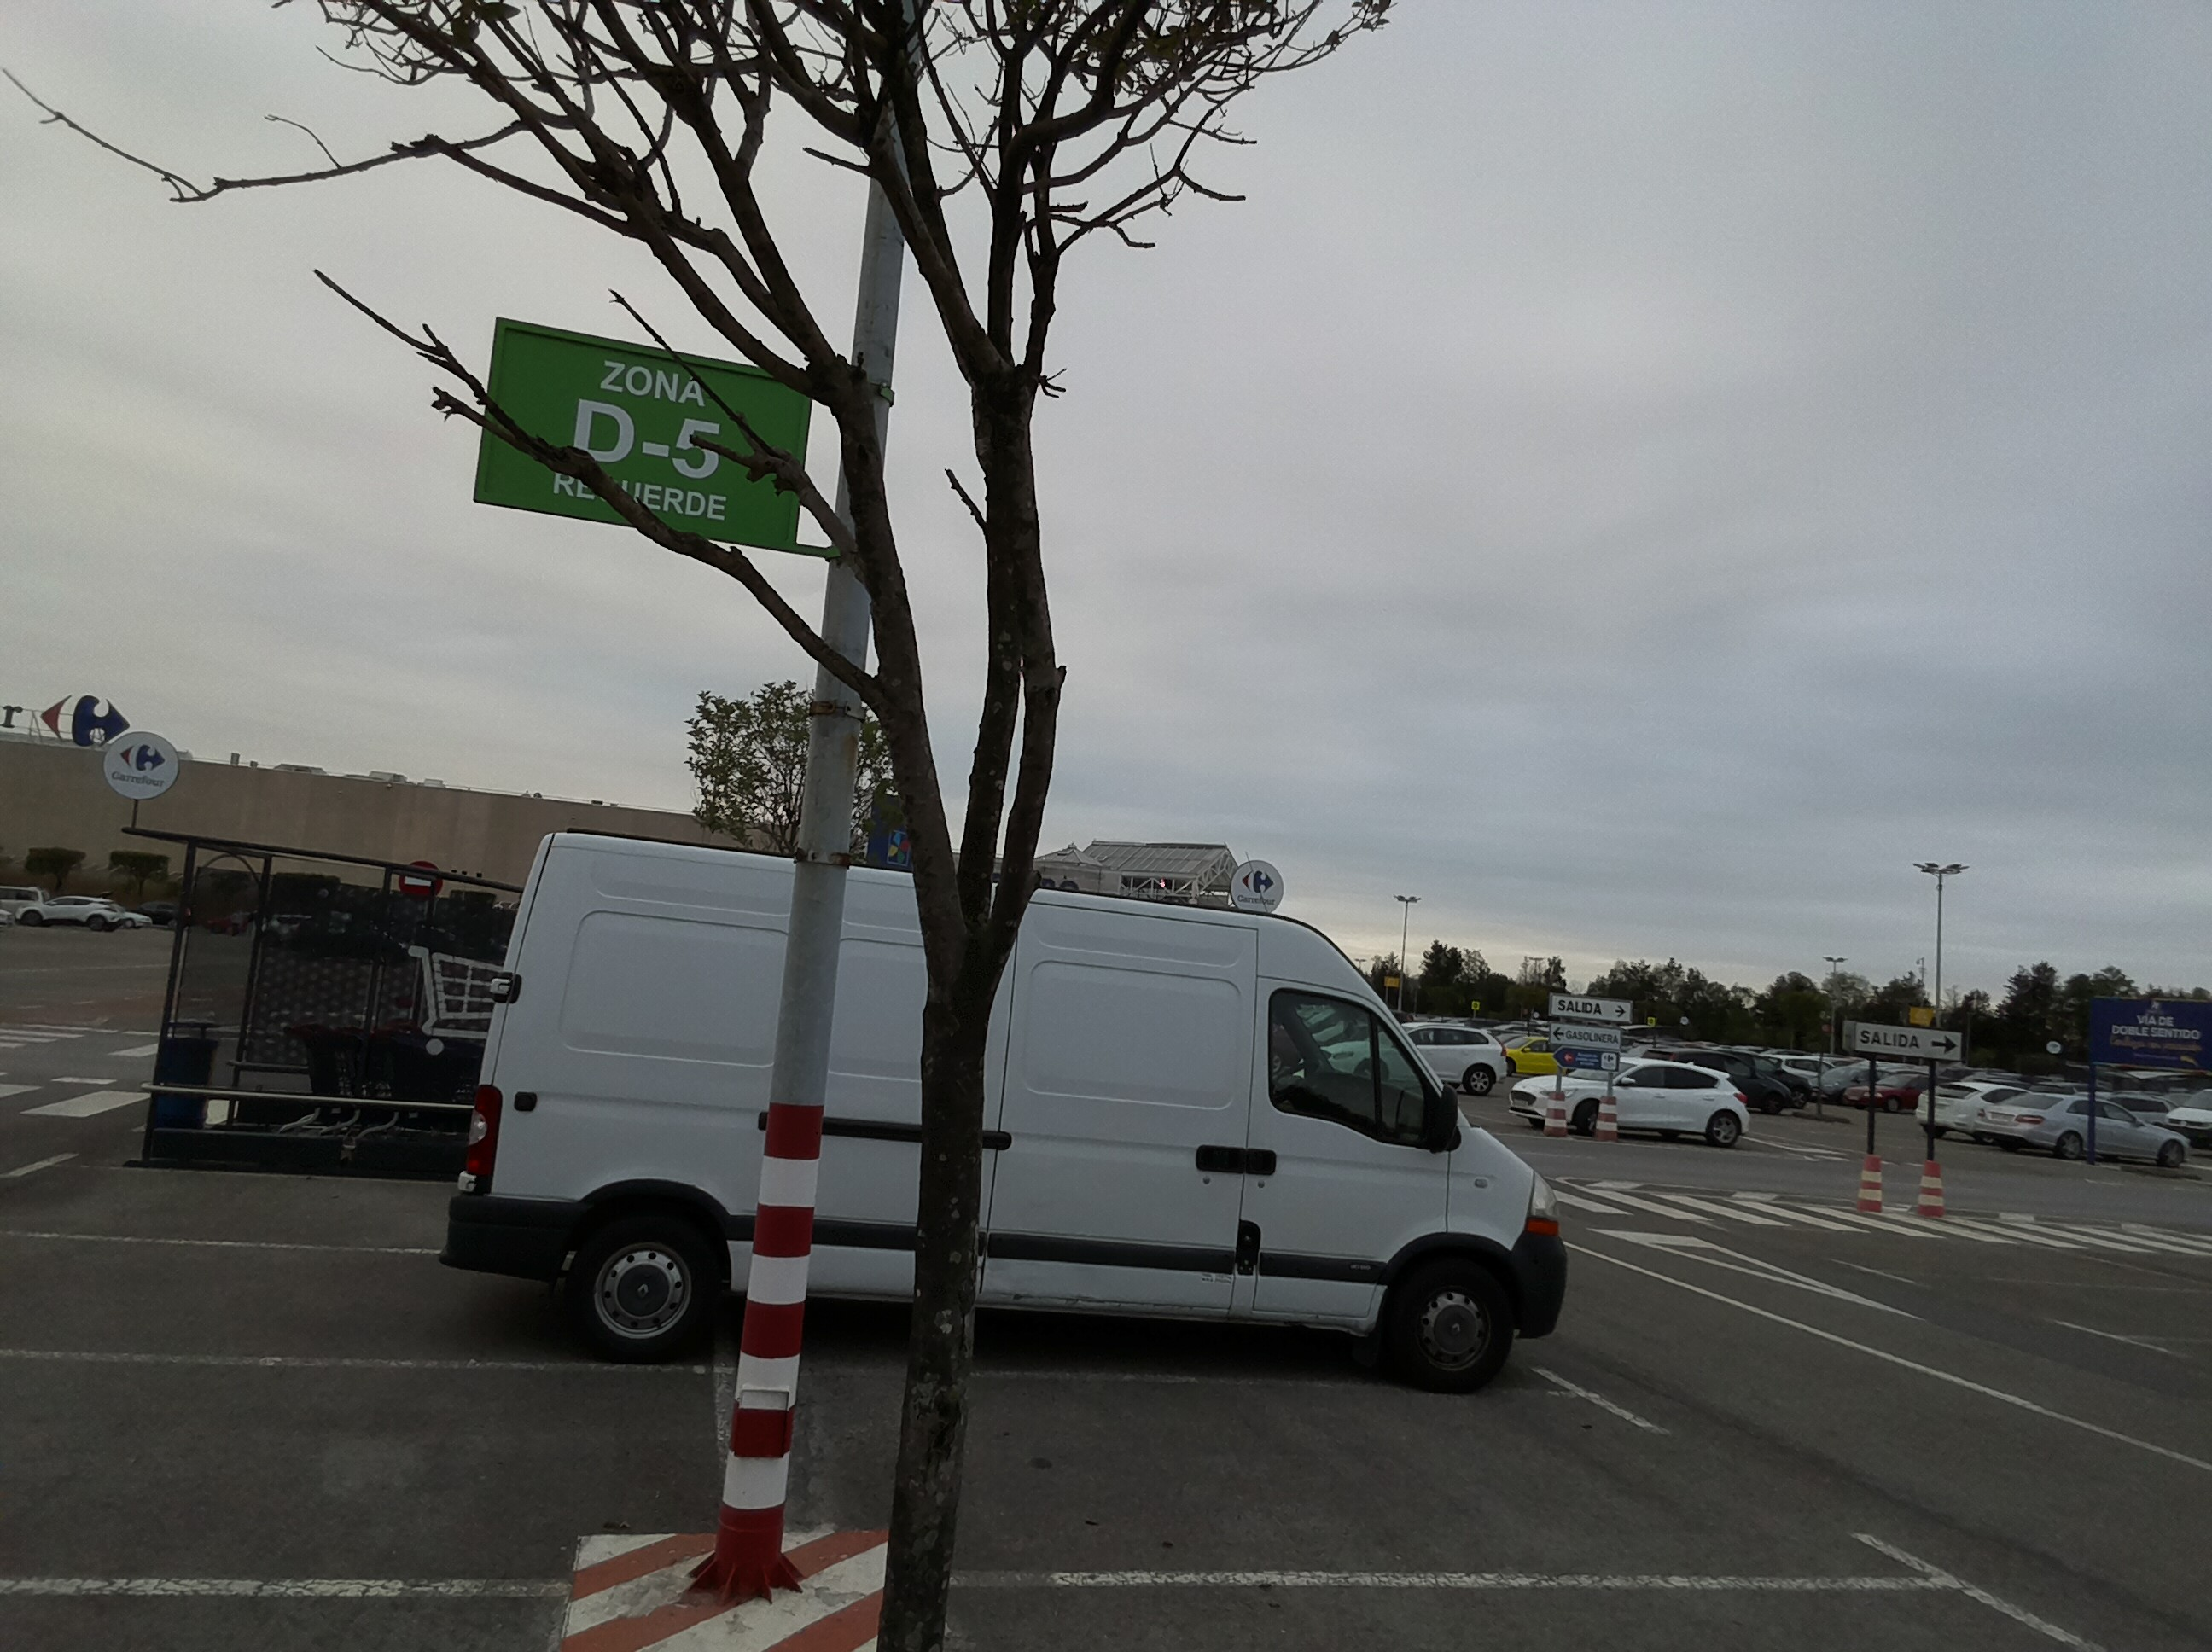Arbol: (855, 7, 1027, 1647)
Cartel: (467, 309, 821, 555)
Poste: (788, 213, 909, 1093), (697, 1097, 829, 1598)
Vehiculo: (437, 760, 1587, 1423)
